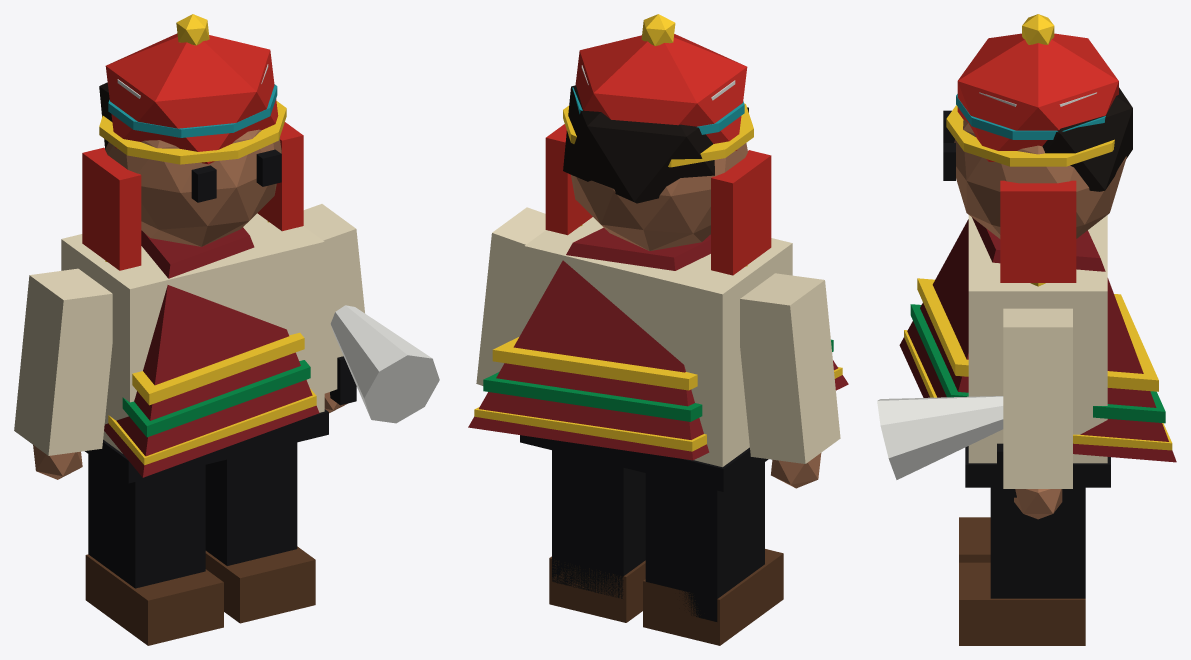
File: Org Reclutador.fbx
The picture shows the model from 3 angles, left to right: view 1: azimuth 30°, elevation 25°; view 2: azimuth 150°, elevation 25°; view 3: azimuth 270°, elevation 25°; orthographic projection.
Visible parts, largest first — view 1: Org Reclutador; view 2: Org Reclutador; view 3: Org Reclutador.
Boxes of the visible parts, x1,y1,x2,y2 form: Org Reclutador: (14, 14, 439, 645); Org Reclutador: (468, 14, 848, 645); Org Reclutador: (877, 14, 1176, 645).
Bounding box in the file's own units: 0.6188 × 1.03 × 0.4739.
